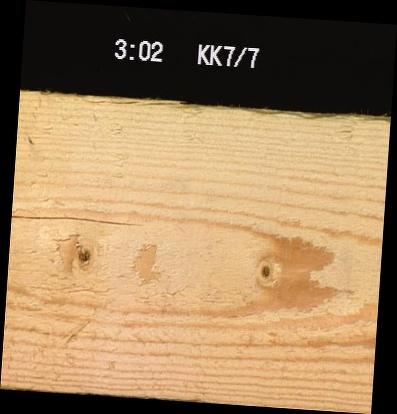small_knot: (258, 263, 270, 278)
sound_knot: (73, 241, 91, 271)
split: (11, 213, 143, 223)
